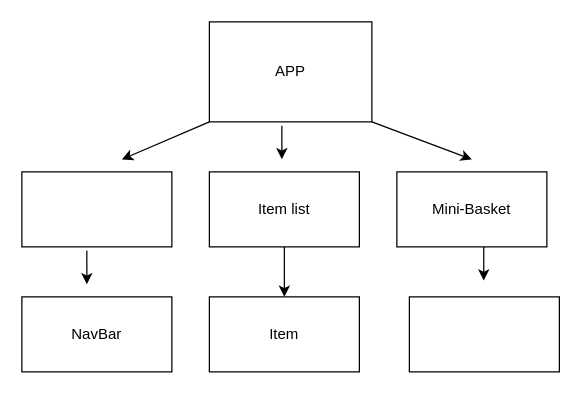
Some shapes in this 581 by 394 pixel diagram are drawn without their labels. Here are the shapes that lost their labels. From the top down, the box of each, then its label:
(21, 171, 172, 247): Header
(408, 296, 559, 372): Basket Item
